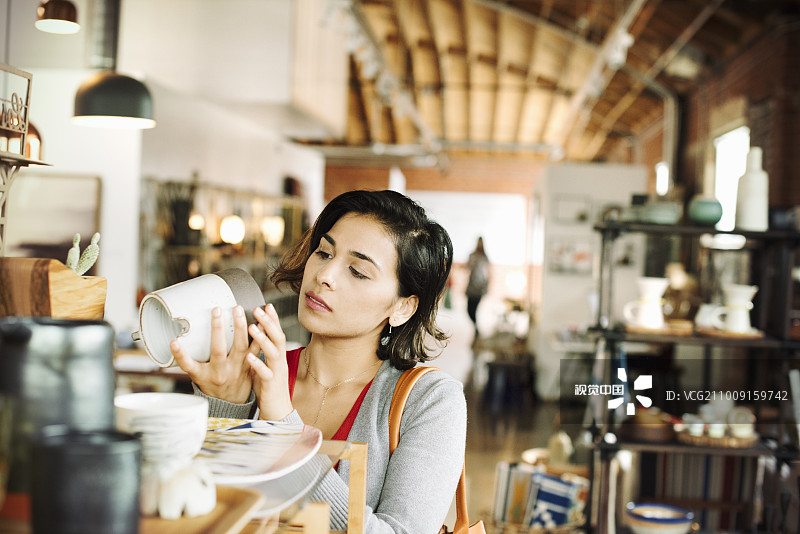no-phone: (162, 299, 264, 407), (248, 297, 305, 424)
